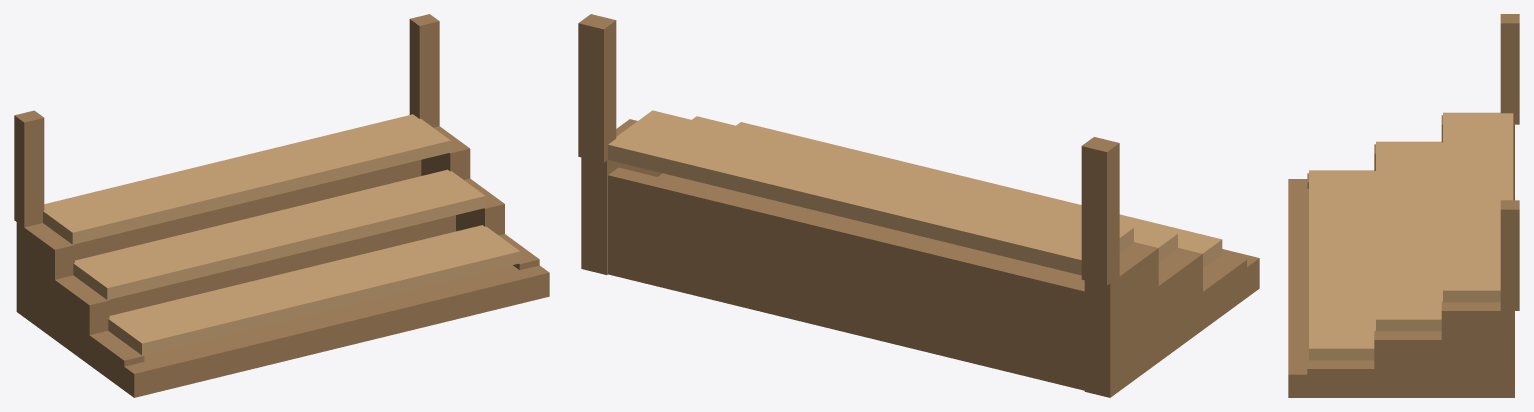
The model's file is tournament-platform-step.glb.
The picture shows the model from 3 angles, left to right: view 1: azimuth 30°, elevation 25°; view 2: azimuth 150°, elevation 25°; view 3: azimuth 270°, elevation 25°; orthographic projection. The views are drawn at different scales.
Parts seen in each view (by area): view 1: tournament-platform-step; view 2: tournament-platform-step; view 3: tournament-platform-step.
Part boxes in pixels (x1,y1,x2,y2): tournament-platform-step: (14, 14, 549, 397); tournament-platform-step: (578, 14, 1259, 397); tournament-platform-step: (1288, 14, 1519, 397).
Size of the model in its own units: 2.9 by 1.3 by 1.45.
